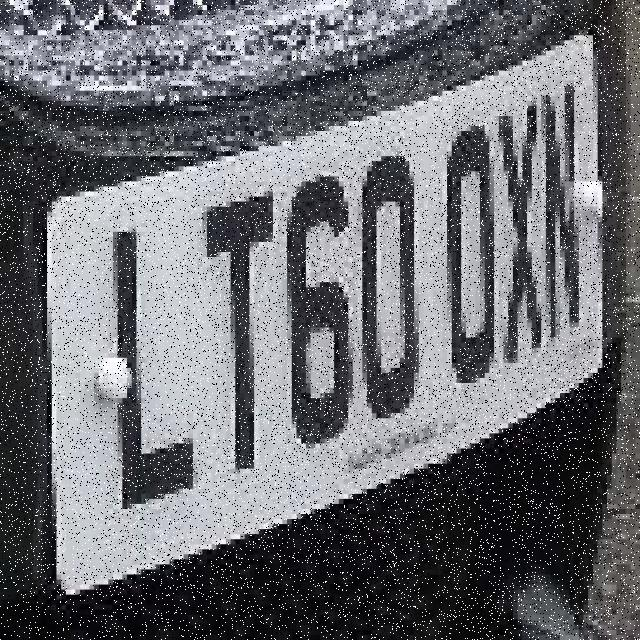licenseplate: (20, 21, 621, 616)
